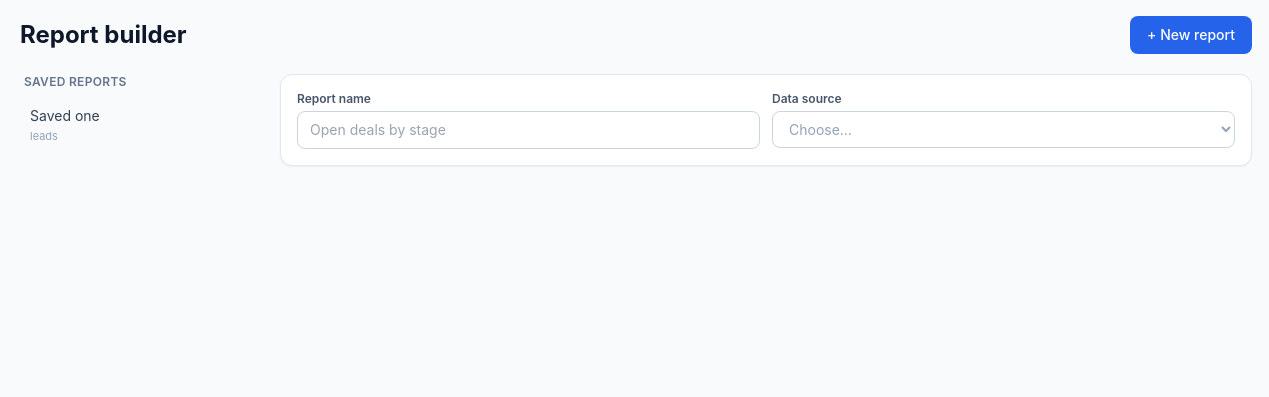
Test: ReportBuilder › loads a saved report from the rail
Step 1. Click the button with test id "saved-report-r9" → (140, 126), box x1=20 y1=98 x2=260 y2=154
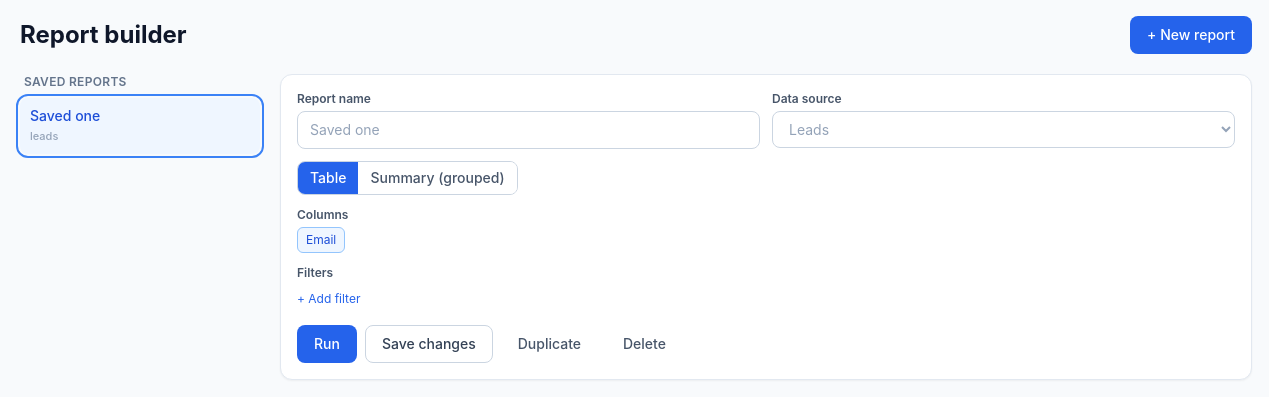
Expected: the dropdown with test id "data-source-select" shows "Leads", x1=772 y1=111 x2=1235 y2=148
